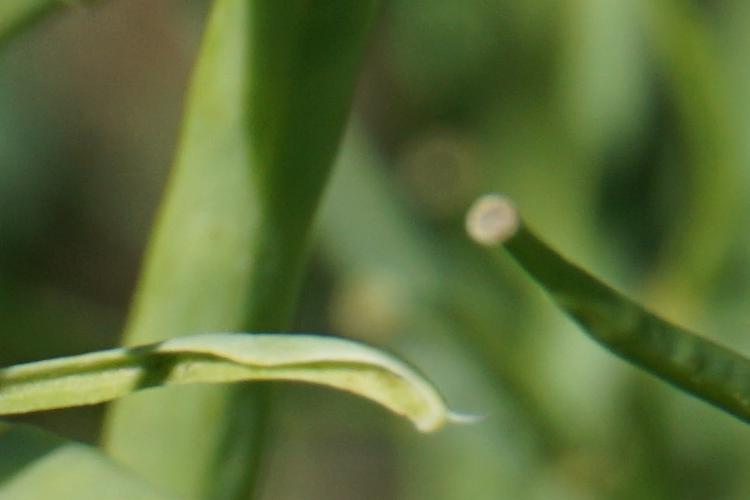pod: (478, 190, 747, 424)
